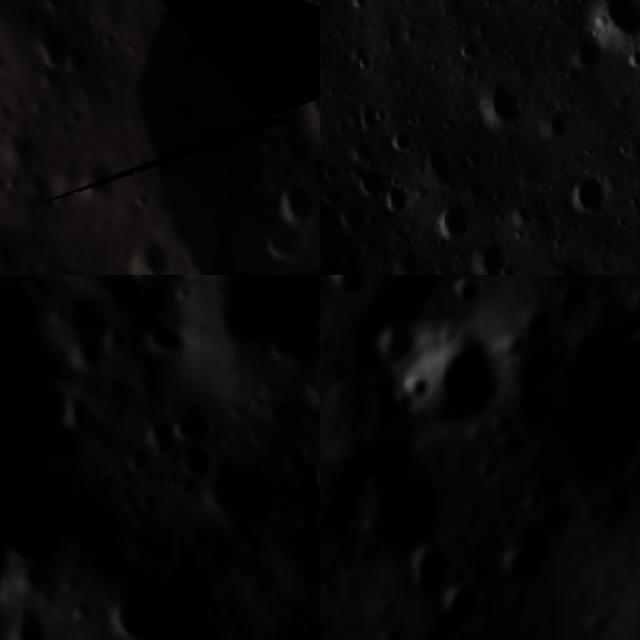crater: (402, 344, 510, 431), (351, 467, 442, 558), (43, 286, 121, 372), (204, 458, 273, 529), (101, 584, 175, 640), (357, 319, 422, 376), (28, 8, 76, 80), (407, 544, 461, 607), (256, 216, 314, 267), (168, 399, 218, 454), (447, 578, 492, 639), (275, 170, 320, 229), (68, 158, 125, 203), (140, 315, 190, 363), (474, 85, 526, 128), (498, 541, 544, 588), (590, 0, 630, 54), (126, 233, 175, 275), (2, 125, 40, 173), (0, 609, 54, 640), (321, 275, 370, 306), (301, 443, 320, 514), (438, 199, 476, 234), (448, 275, 483, 309), (617, 326, 640, 371), (381, 126, 406, 160), (384, 185, 411, 214), (577, 179, 600, 212), (356, 169, 382, 196), (339, 207, 364, 232), (174, 275, 220, 286), (351, 51, 372, 73), (322, 180, 338, 208), (347, 0, 367, 12)
